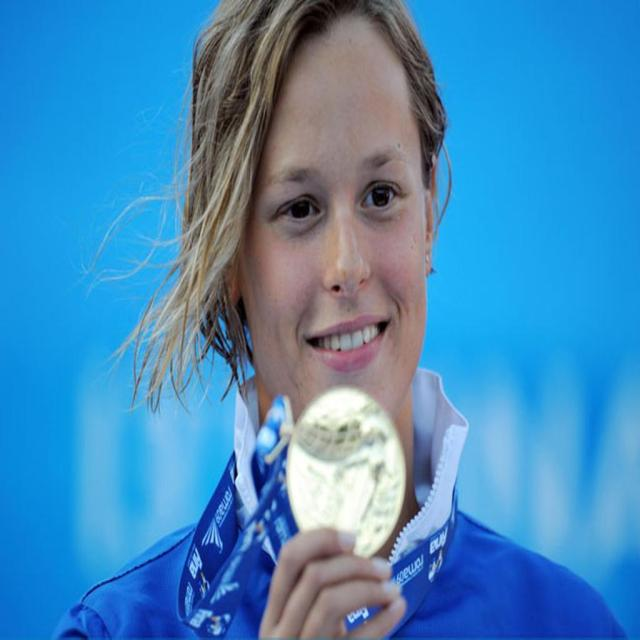Face: (248, 15, 436, 413)
